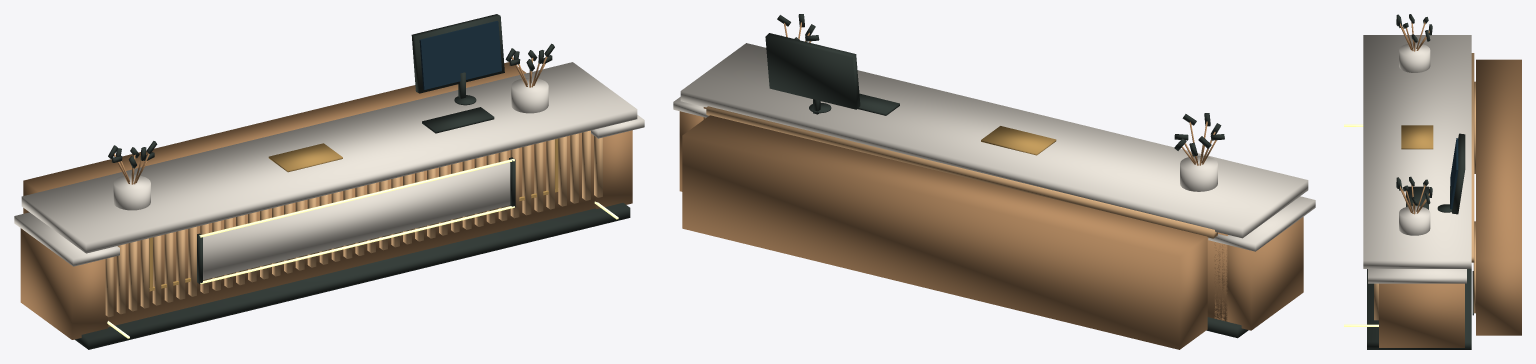
Rendered from hq-reception-v3.glb.
3 renders of one model, left to right at view 1: azimuth 30°, elevation 25°; view 2: azimuth 150°, elevation 25°; view 3: azimuth 270°, elevation 25°, orthographic. The views are drawn at different scales.
Parts seen in each view (by area): view 1: Reception_stone, Reception_wood, Reception_woodlight, Reception_metal, Reception_screen, Reception_led, Reception_brass, Reception_Brass_Trim; view 2: Reception_wood, Reception_stone, Reception_metal, Reception_woodlight, Reception_brass; view 3: Reception_stone, Reception_wood, Reception_metal, Reception_woodlight, Reception_brass, Reception_screen, Reception_led.
Part boxes in pixels (<box>): Reception_stone: <box>14,62,644,279</box>; Reception_wood: <box>20,56,632,339</box>; Reception_woodlight: <box>105,130,602,317</box>; Reception_metal: <box>75,14,630,349</box>; Reception_screen: <box>419,21,501,89</box>; Reception_led: <box>107,158,618,338</box>; Reception_brass: <box>268,143,342,172</box>; Reception_Brass_Trim: <box>149,138,558,291</box>; Reception_wood: <box>679,22,1303,349</box>; Reception_stone: <box>673,43,1315,251</box>; Reception_metal: <box>765,14,1248,338</box>; Reception_woodlight: <box>706,106,1217,238</box>; Reception_brass: <box>981,126,1056,155</box>; Reception_stone: <box>1363,35,1471,283</box>; Reception_wood: <box>1379,21,1521,347</box>; Reception_metal: <box>1367,14,1473,349</box>; Reception_woodlight: <box>1374,53,1475,320</box>; Reception_brass: <box>1401,125,1433,149</box>; Reception_screen: <box>1450,138,1458,209</box>; Reception_led: <box>1344,124,1378,326</box>.
Size of the model in its own units: 6.03 by 1.82 by 1.94.
